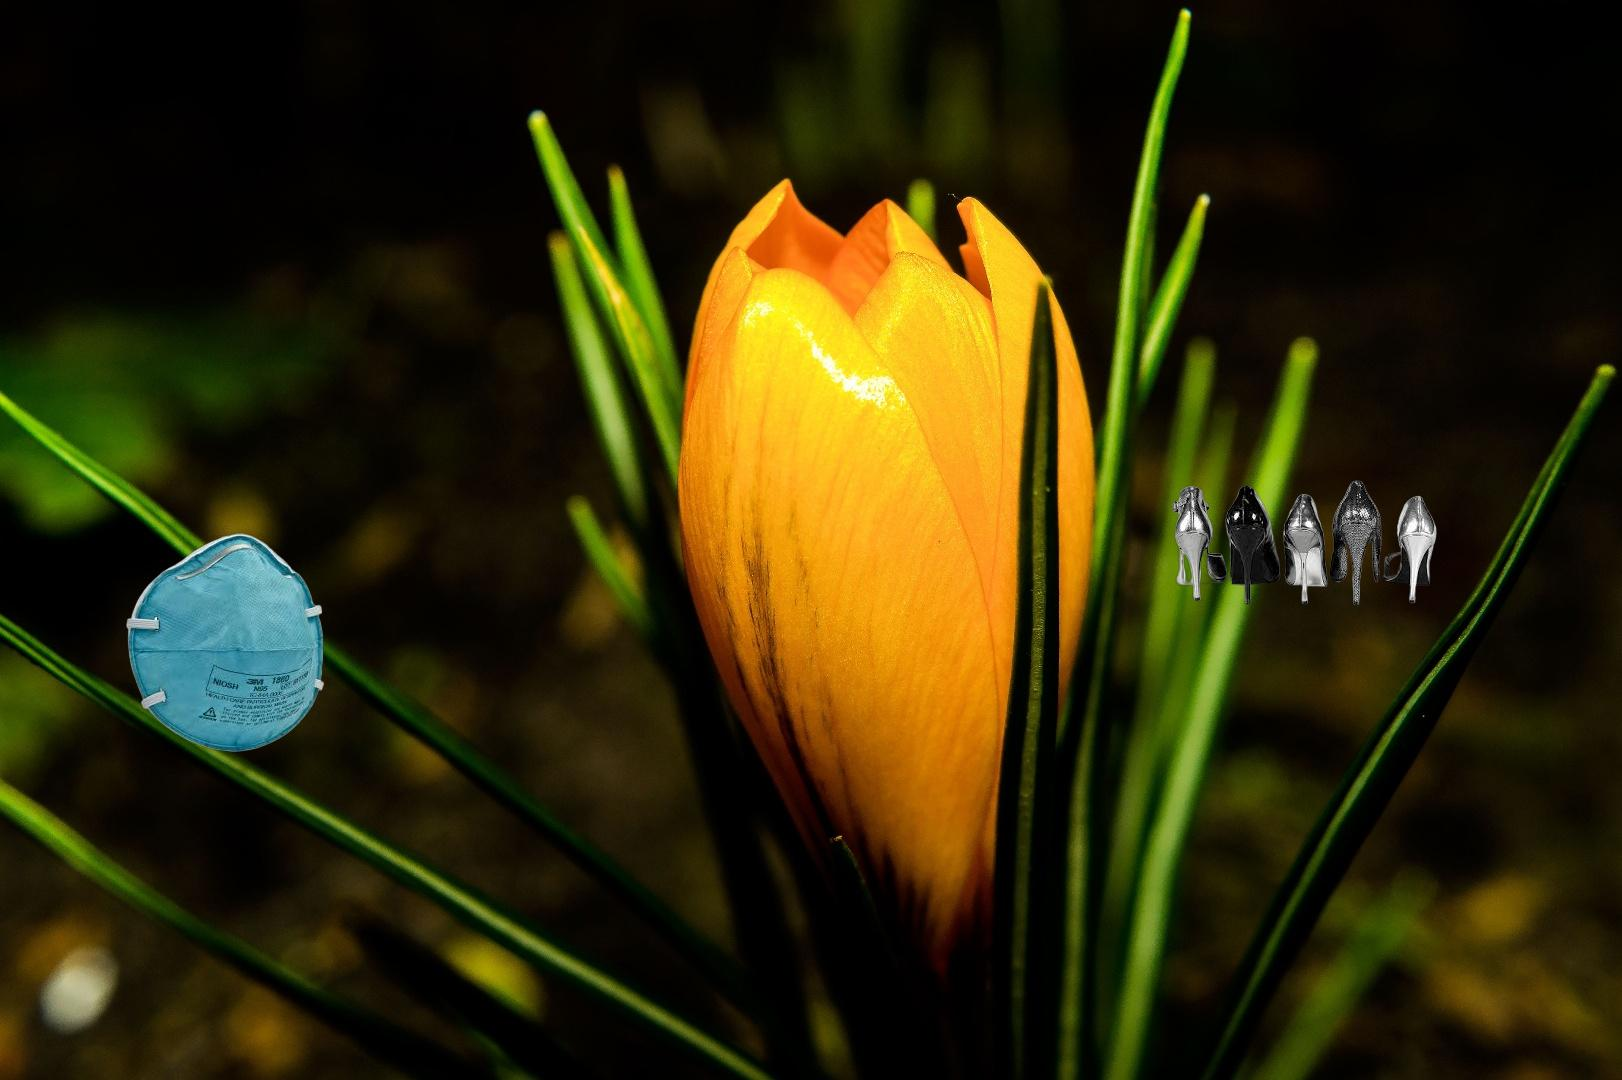shoes: (1171, 479, 1439, 607)
trash: (123, 532, 327, 755)
